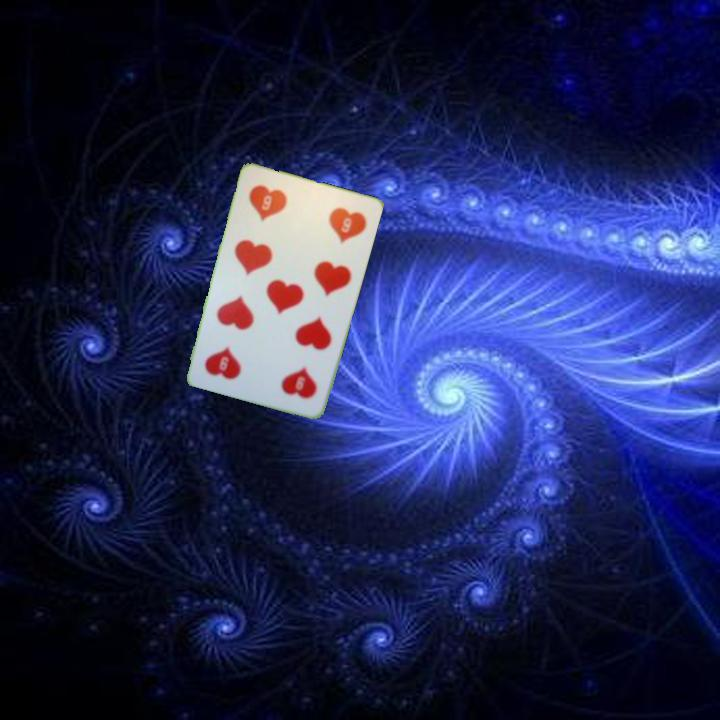h_9.png: (252, 337, 331, 410), (235, 173, 313, 245)
